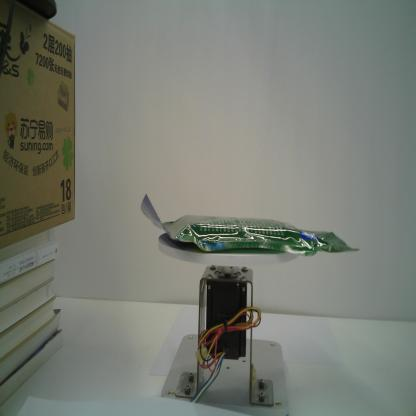Dried Food: (139, 192, 362, 258)
